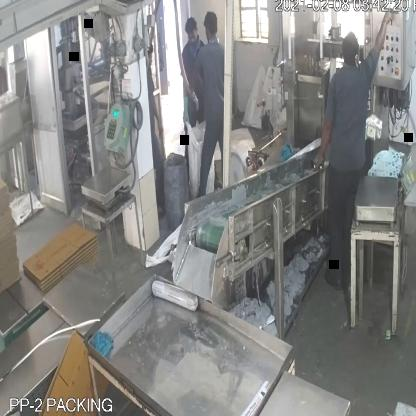no_glove: (371, 0, 401, 53), (312, 114, 332, 180)
